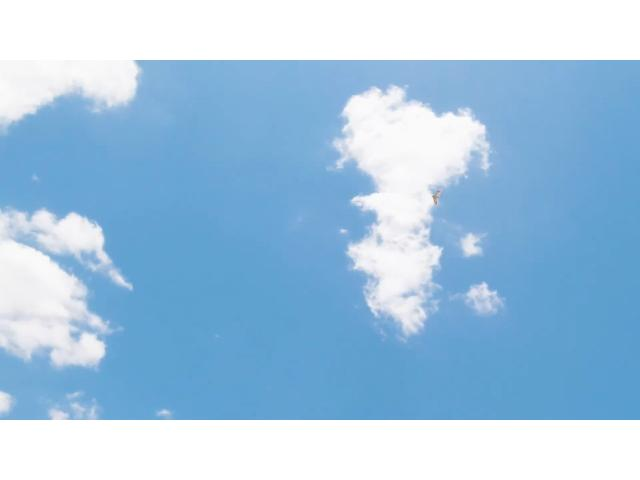Anti-Drone: (425, 184, 453, 208)
